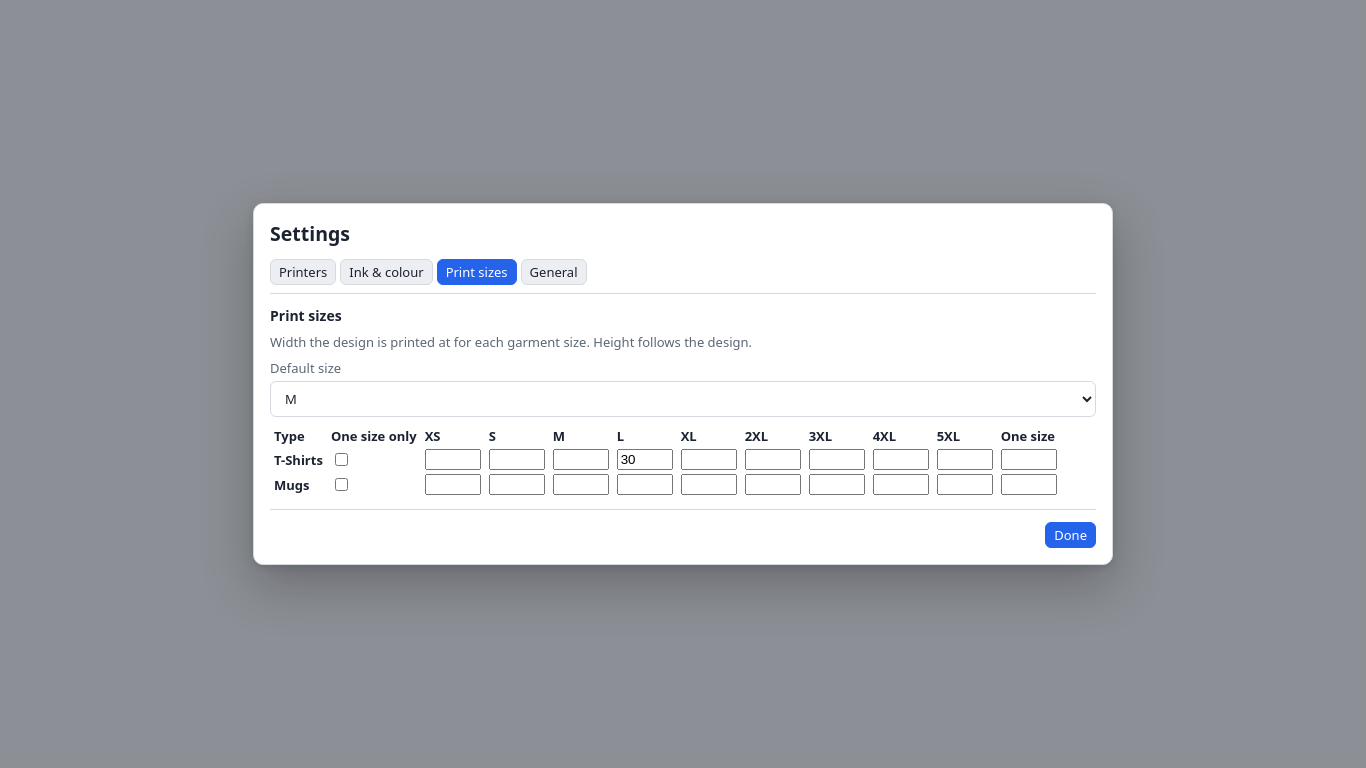
Settings › Print sizes › rejects zero and widths wider than the printer, without saving
The image size is (1366, 768).
Type "0" into the number field named "T-Shirts M width (cm)".
click(581, 460); type("0")  # box [553,449,609,470]
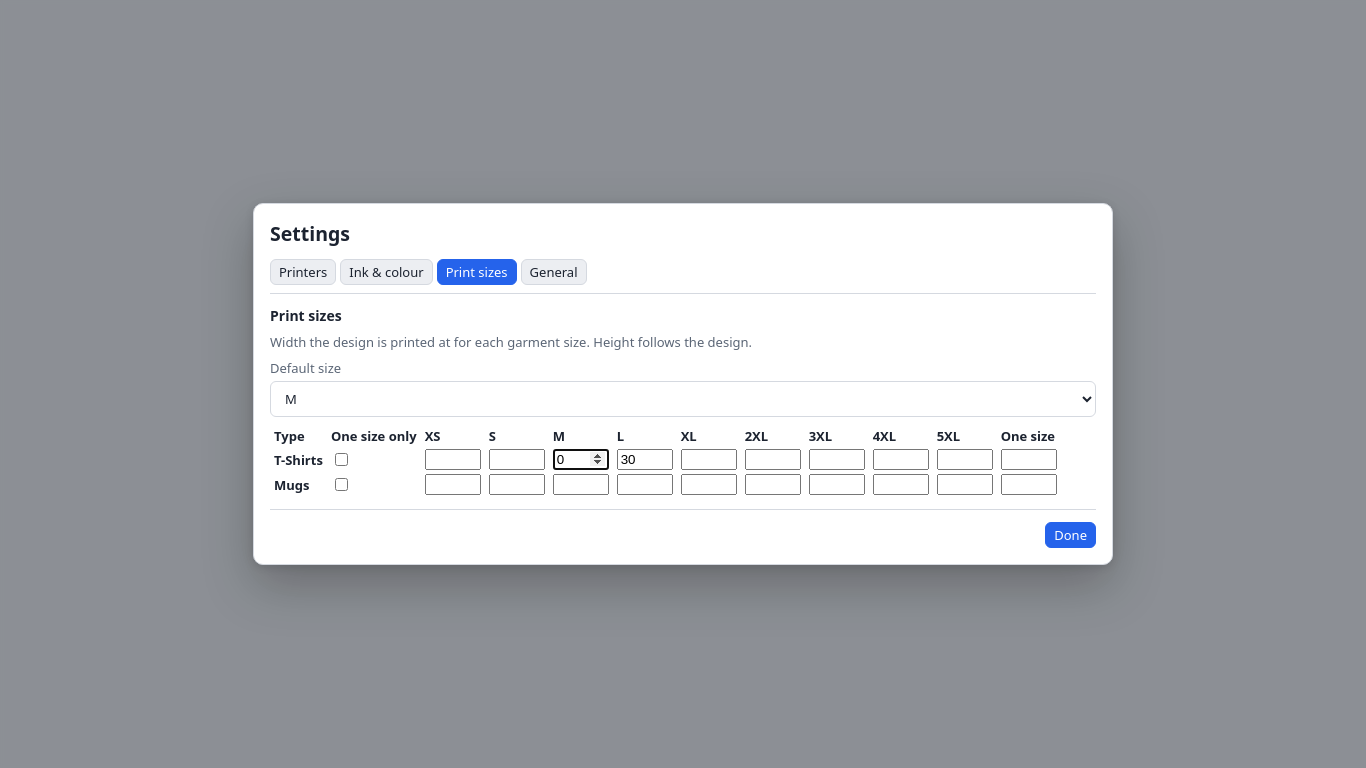
Press Tab
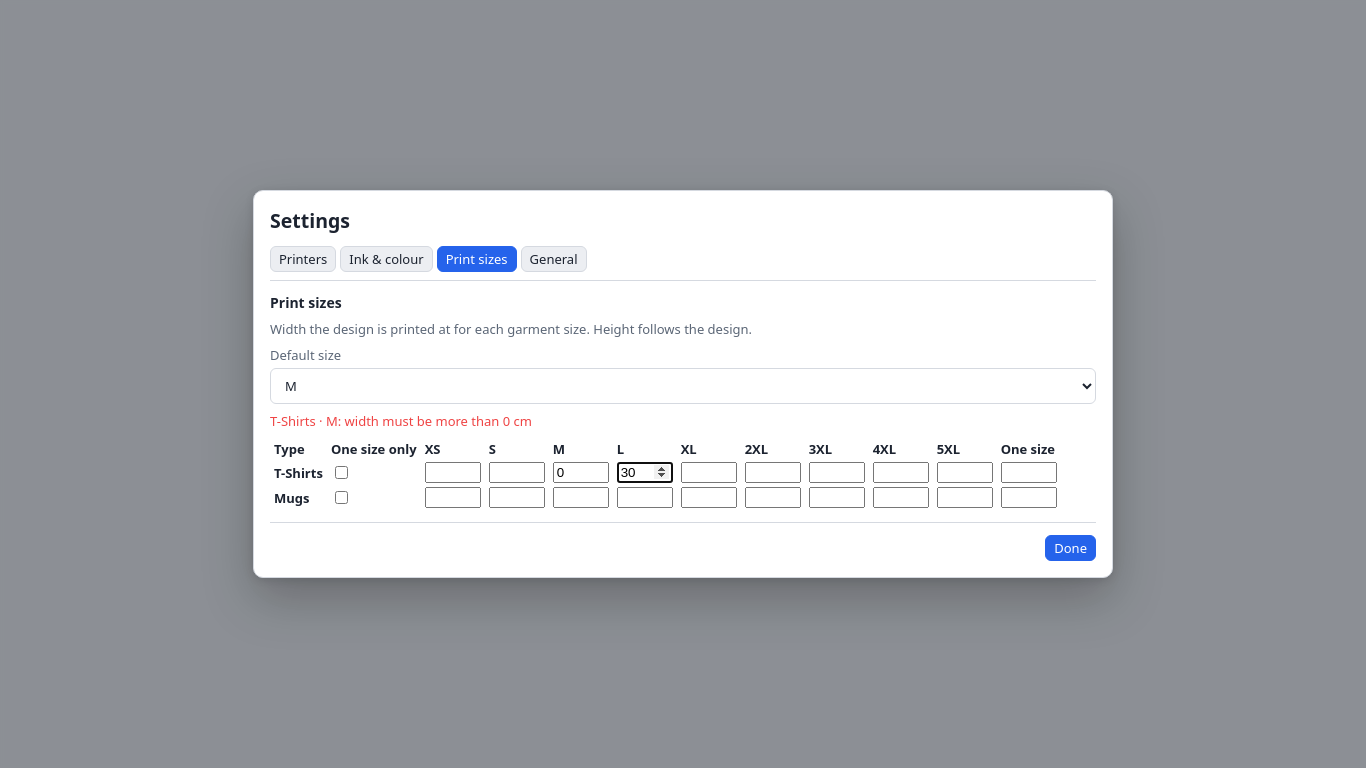
Expected: the message shows "more than 0", [270,412,532,430]
Replace the text in the number field named "T-Shirts M width (cm)" with "61" at (581, 472), box [553,462,609,483]
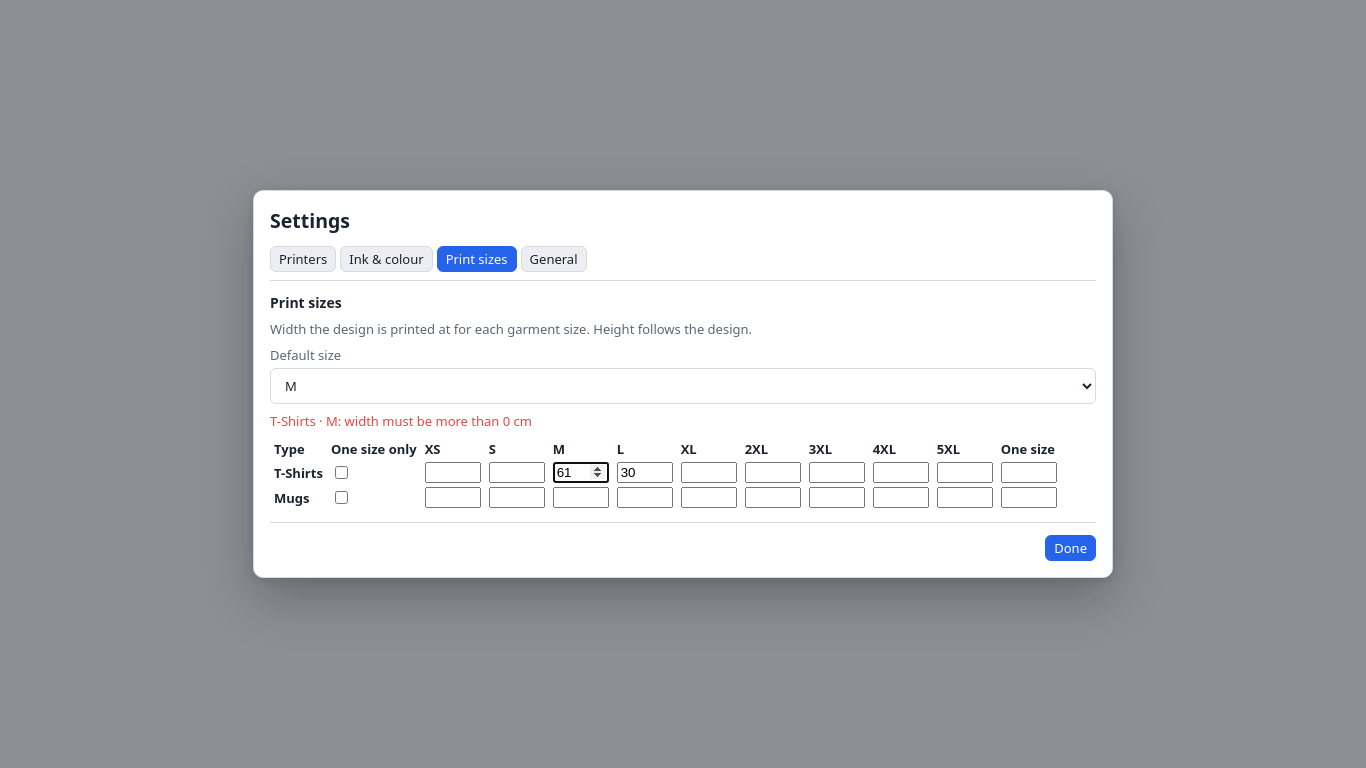
Press Tab
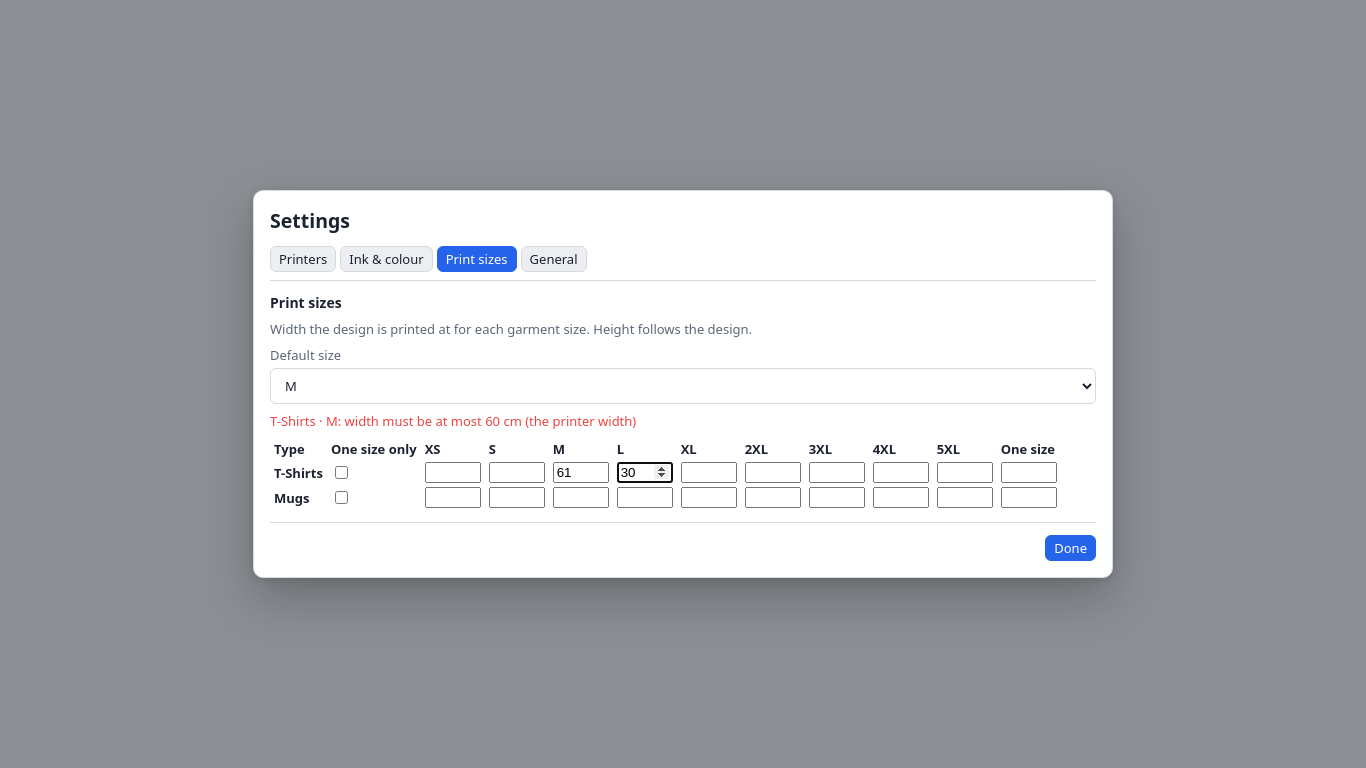
Expected: the message shows "60 cm", [270,412,636,430]
